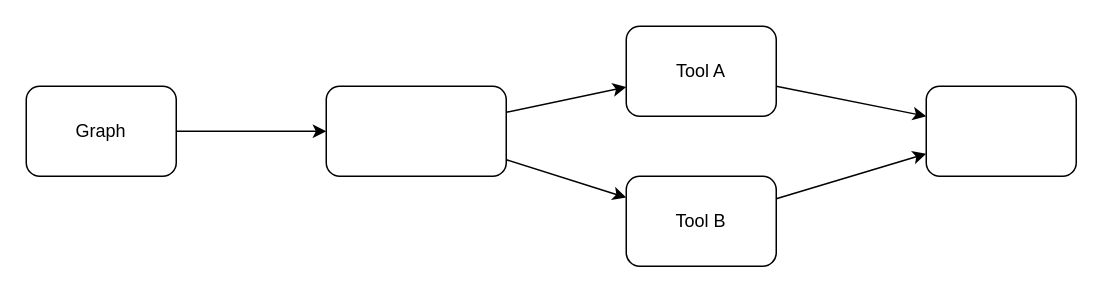
This 1103x293 diagram has some shape labels left out. The centre of each missing label's shape, as x and y in pixels:
"Aggregate" belongs at pixel 1000 130.
"execute_tools" belongs at pixel 415 130.
